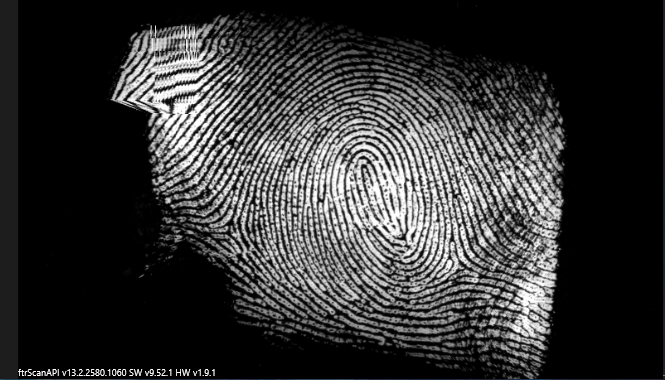nucelo: (354, 152, 376, 180)
verticilo: (215, 217, 241, 237), (444, 259, 469, 276)
